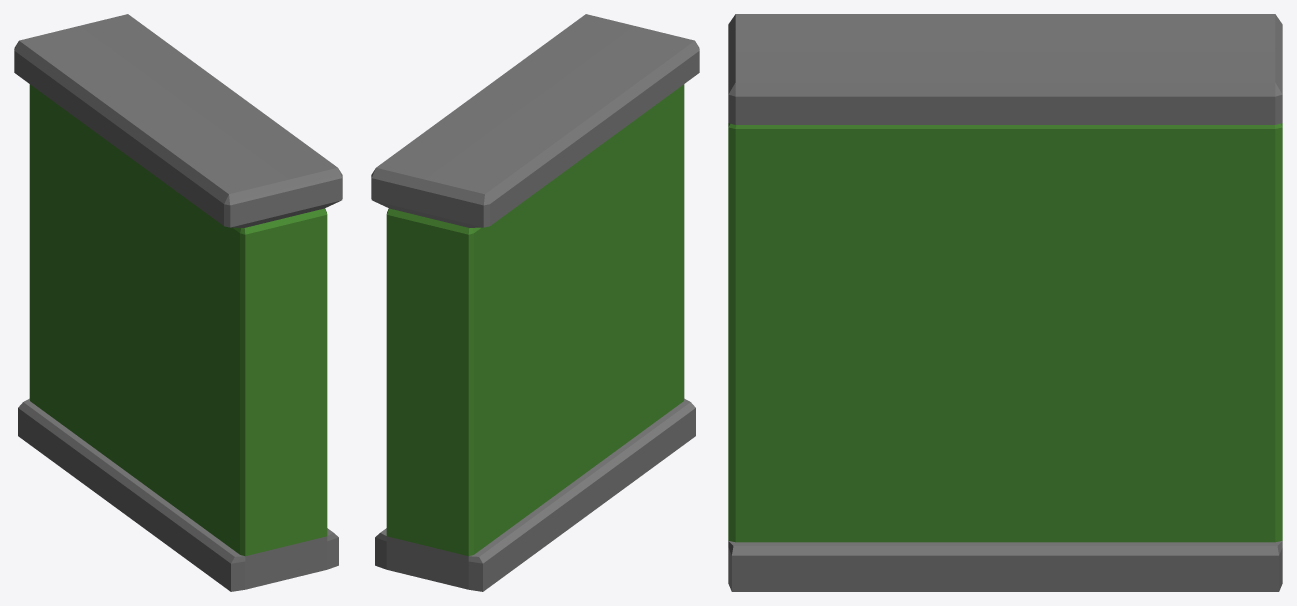
File: HighWall_1_1.fbx
3 renders of one model, left to right at view 1: azimuth 30°, elevation 25°; view 2: azimuth 150°, elevation 25°; view 3: azimuth 270°, elevation 25°, orthographic. The views are drawn at different scales.
Visible parts, largest first — view 1: HighWall_1_1; view 2: HighWall_1_1; view 3: HighWall_1_1.
Part boxes in pixels (x1=…): HighWall_1_1: x1=14, y1=14, x2=342, y2=591; HighWall_1_1: x1=371, y1=14, x2=699, y2=591; HighWall_1_1: x1=728, y1=14, x2=1282, y2=591.
Size of the model in its own units: 63.57 by 203 by 200.
